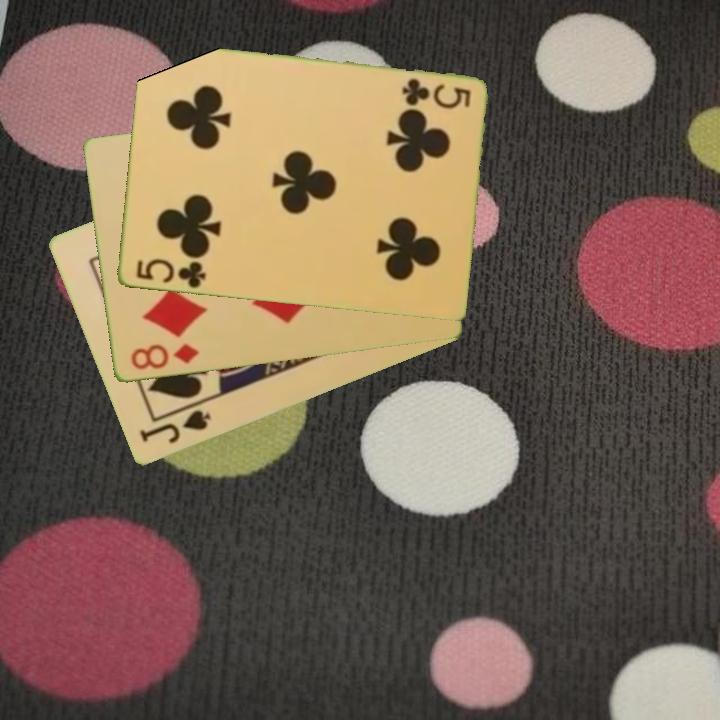5c: (132, 255, 208, 292), (398, 75, 473, 111)
8d: (127, 340, 202, 373)
Js: (135, 407, 214, 447)
